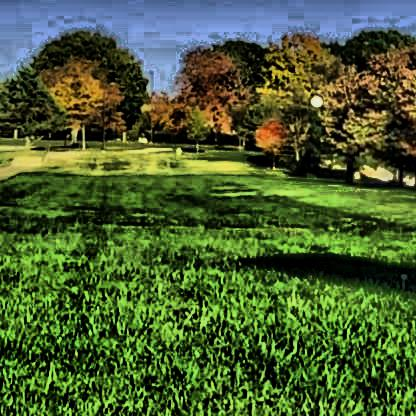golfball: (307, 93, 321, 105)
